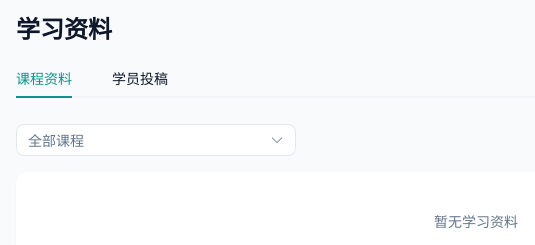
it: Materials 学习资料页（#517 双 tab） › 切到「学员投稿」渲染投稿 tab（stub 子组件）
Click the tab "学员投稿" at (140, 78), box [112, 68, 168, 88]
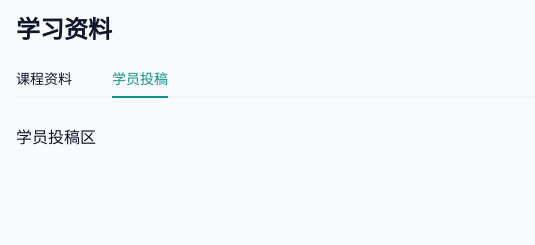
Expected: the text "学员投稿区" is shown, [16, 124, 96, 148]
